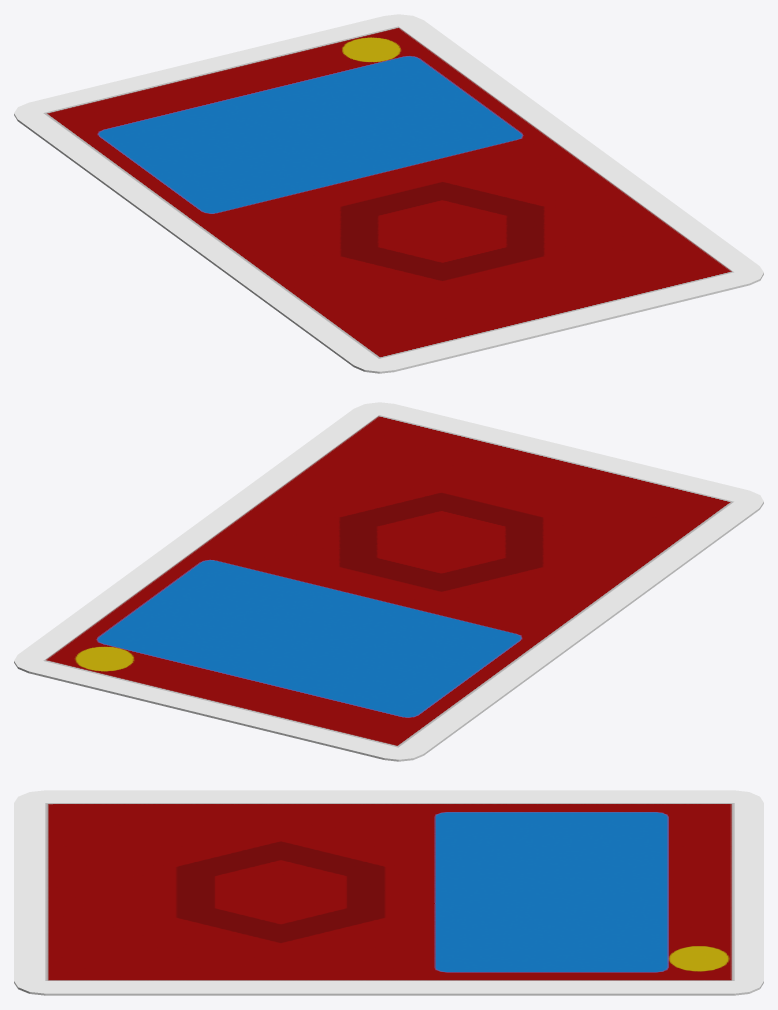
File: Spell Card Model.fbx
3 views of the same model, one above another, from view 1: azimuth 30°, elevation 25°; view 2: azimuth 150°, elevation 25°; view 3: azimuth 270°, elevation 25° (orthographic). The views are drawn at different scales.
Visible parts, largest first — view 1: Spell; view 2: Spell; view 3: Spell.
Part boxes in pixels (<box>): Spell: <box>14,14,763,373</box>; Spell: <box>14,402,763,761</box>; Spell: <box>14,790,763,995</box>.
Bounding box in the file's own units: 520 × 2.4 × 810.
